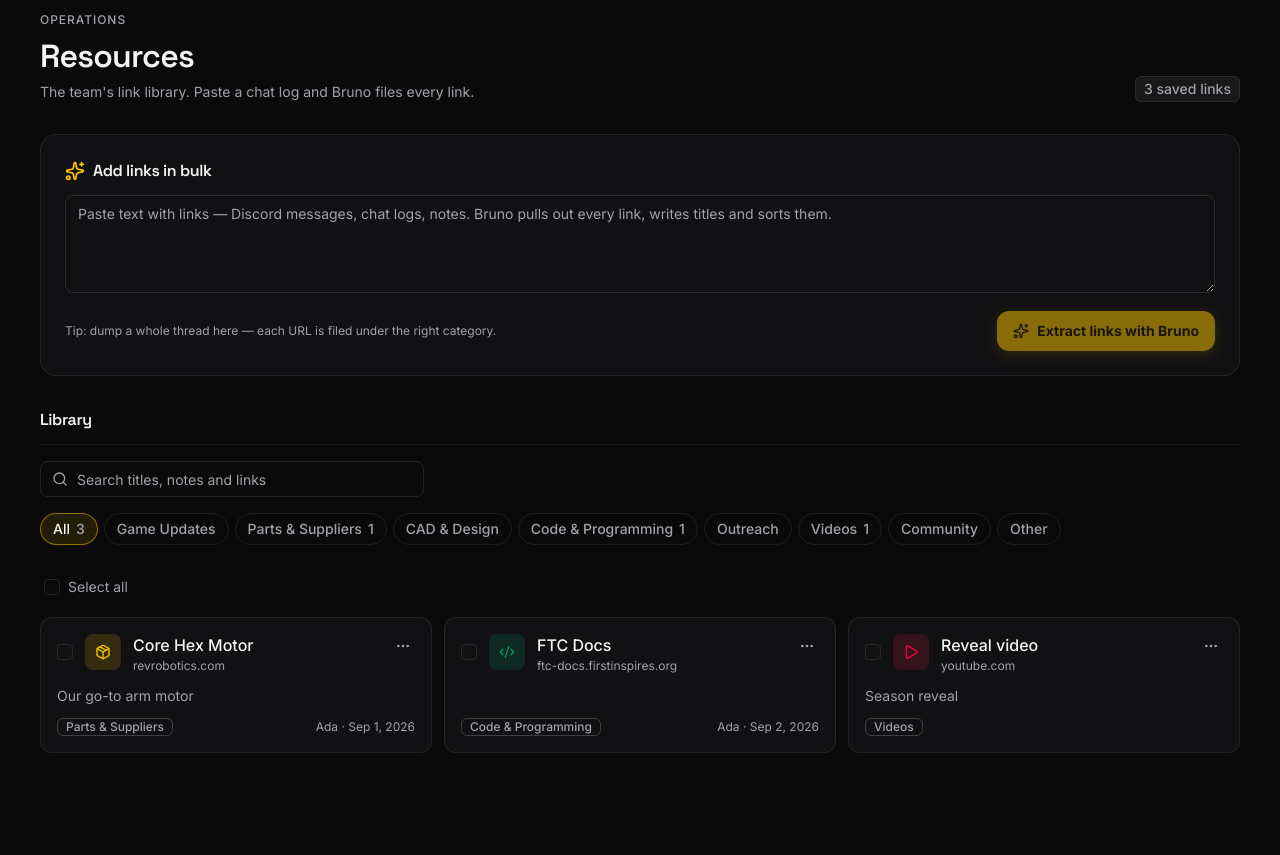
Modern Resources › extracts links with Bruno into an editable preview, then saves them all
Expected: the link "Core Hex Motor" is shown, [133,635,254,655]
Replace the text in the text box labelled "text with links" with "check https://gm0.org and https://cad.onshape.com/x" at (640, 244), box [65,195,1215,293]
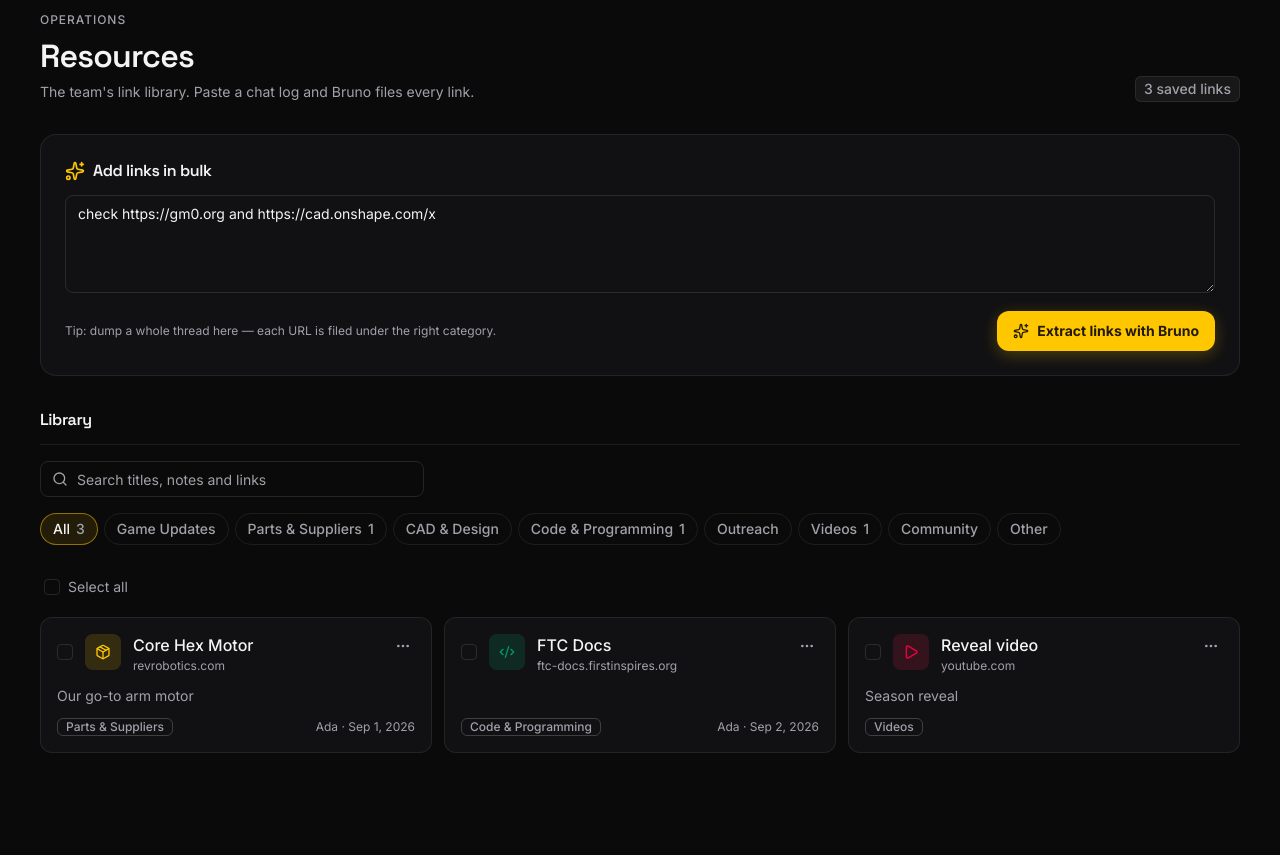
Click the button "Extract links with Bruno" at (1106, 331), box [997,311,1215,351]
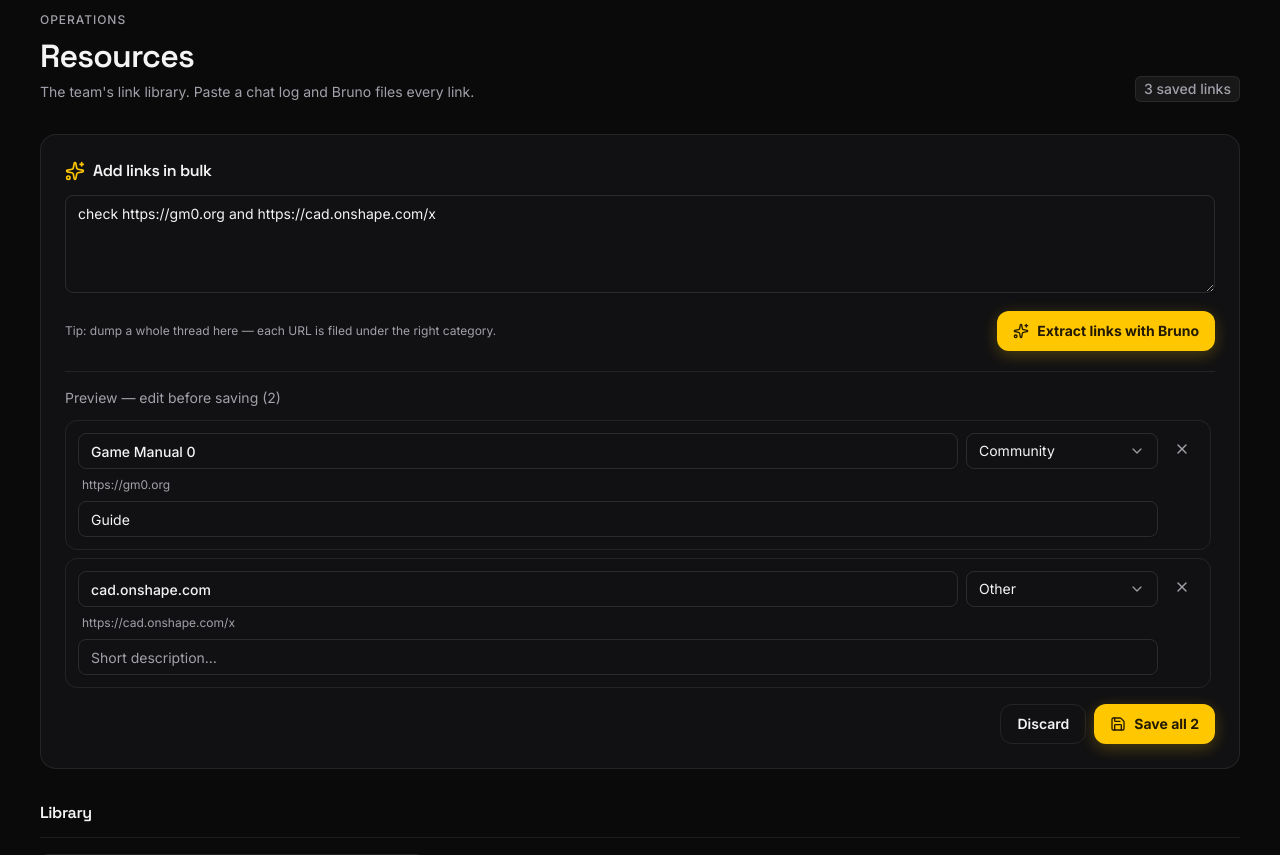
Expected: the text "Preview — edit before saving (2)" is shown, [65,389,281,406]
Expected: the field named "Title for https://cad.onshape.com/x" holds "cad.onshape.com", [78,571,958,607]
Replace the text in the field named "Title for https://gm0.org" with "gm0" at (518, 451), box [78,433,958,469]
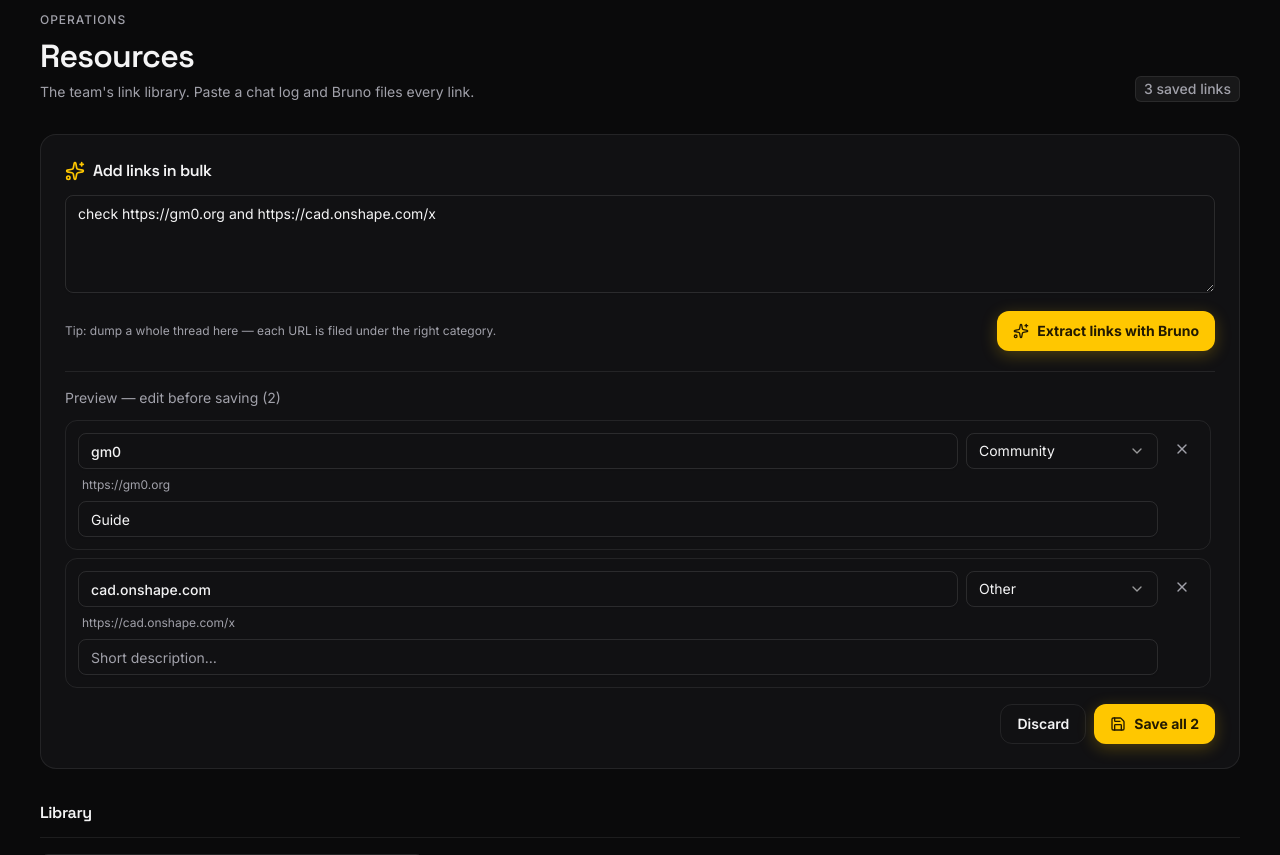
Click the button named "Remove https://cad.onshape.com/x" at (1182, 587), box [1166,571,1198,603]
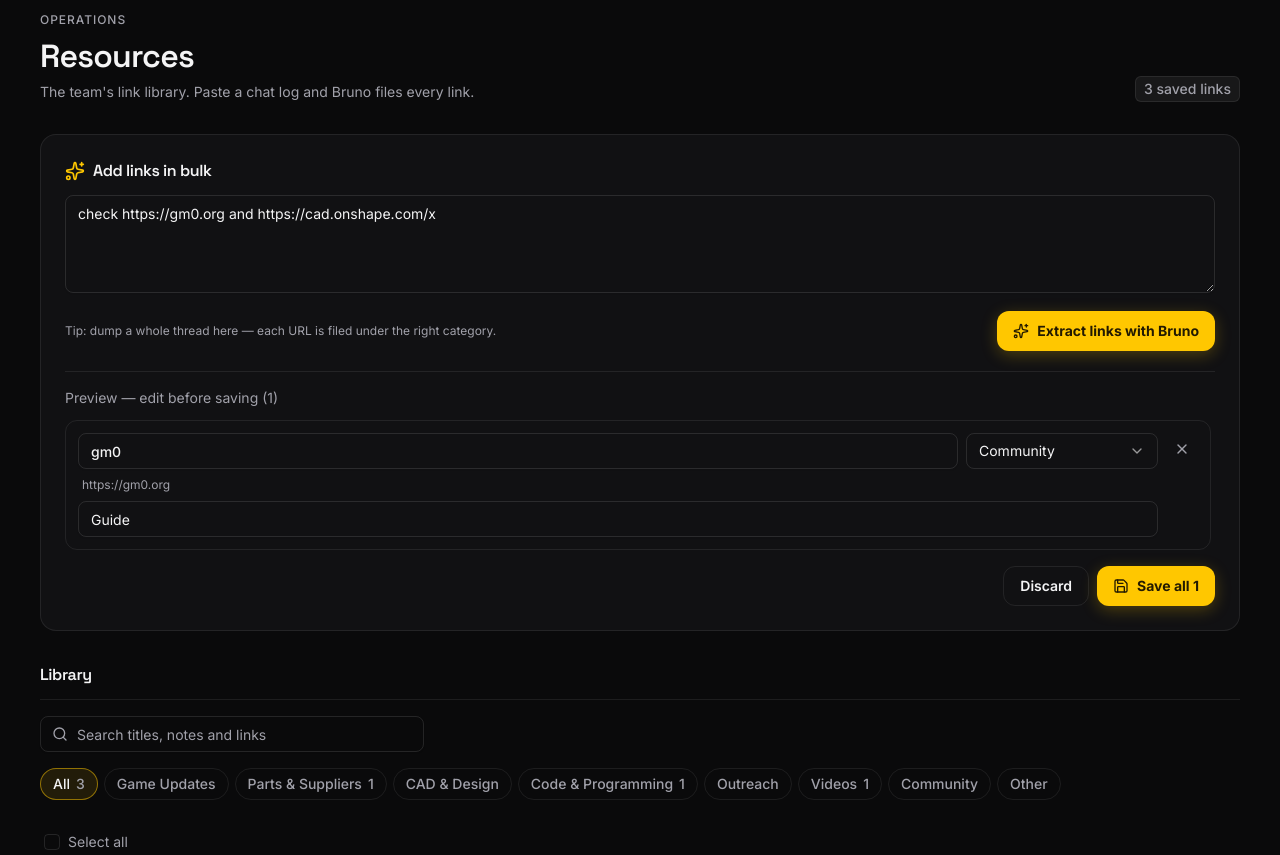
Click the button "Save all 1" at (1156, 586), box [1097,566,1215,606]
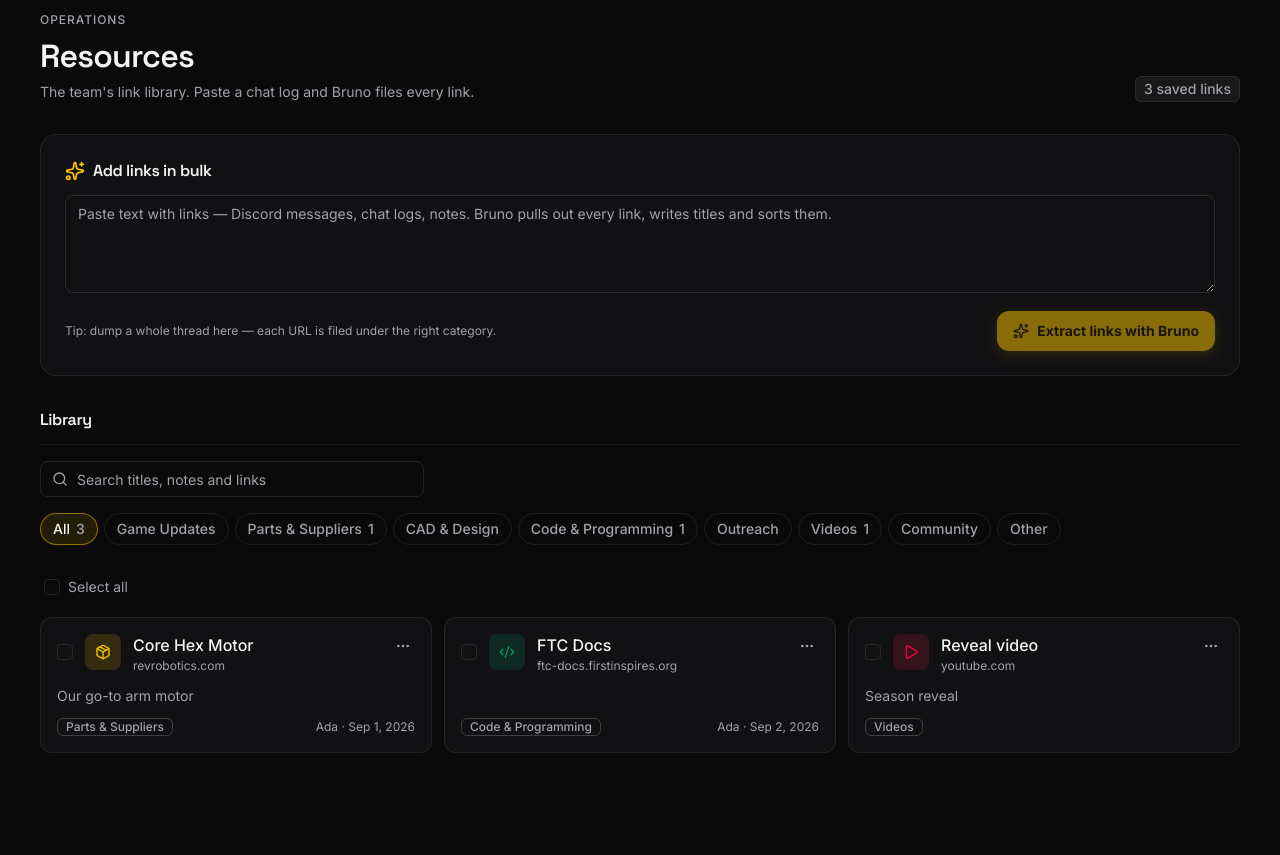
Expected: the text "Preview — edit before saving" is gone
Expected: the text box labelled "text with links" is empty, [65,195,1215,293]
